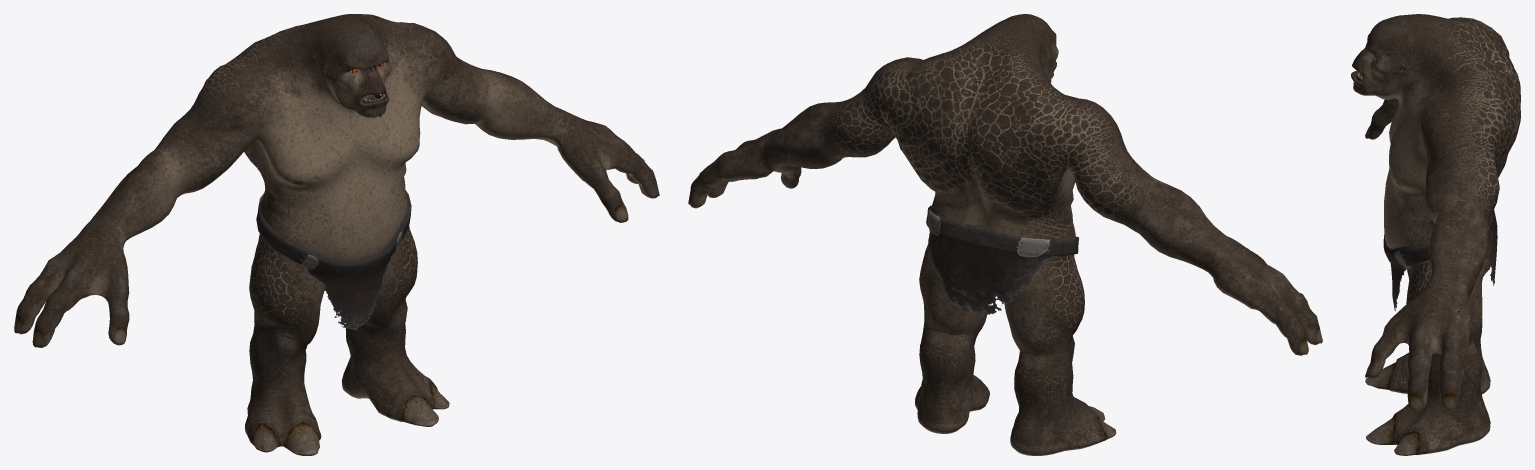
File: ogre.glb
3 renders of one model, left to right at view 1: azimuth 30°, elevation 25°; view 2: azimuth 150°, elevation 25°; view 3: azimuth 270°, elevation 25°, orthographic. The views are drawn at different scales.
Parts seen in each view (by area): view 1: polySurface7, Pants; view 2: polySurface7, Pants; view 3: polySurface7, Pants.
Part boxes in pixels (<box>): polySurface7: <box>14,14,659,455</box>; Pants: <box>256,191,411,329</box>; polySurface7: <box>688,14,1322,455</box>; Pants: <box>926,205,1078,314</box>; polySurface7: <box>1351,14,1520,455</box>; Pants: <box>1383,210,1497,310</box>.
Bounding box in the file's own units: 878 × 539 × 210.
2 materials, 2 textured.
